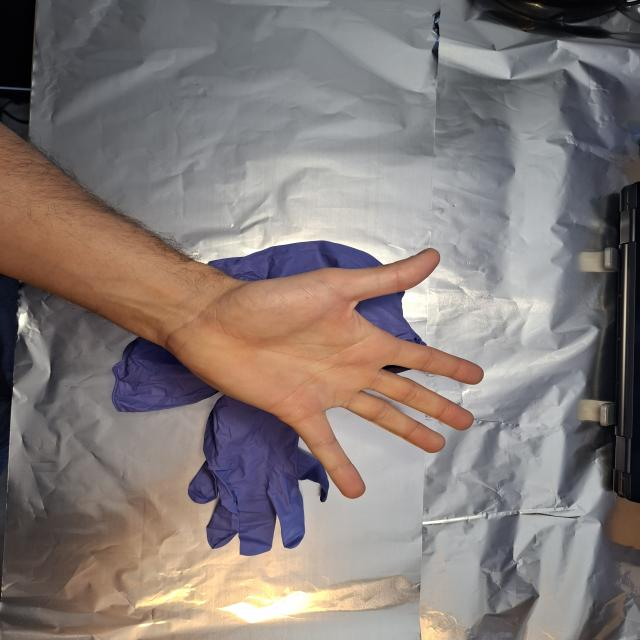glove_off: (158, 246, 487, 501)
